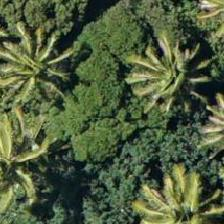coconut_tree: (104, 30, 194, 120), (0, 106, 81, 196), (0, 16, 68, 106), (138, 174, 223, 223)
